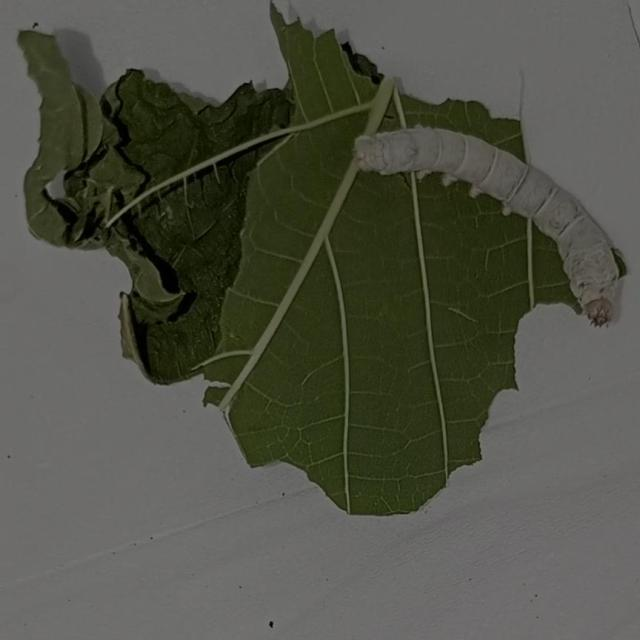Healthy: (354, 106, 625, 335)
